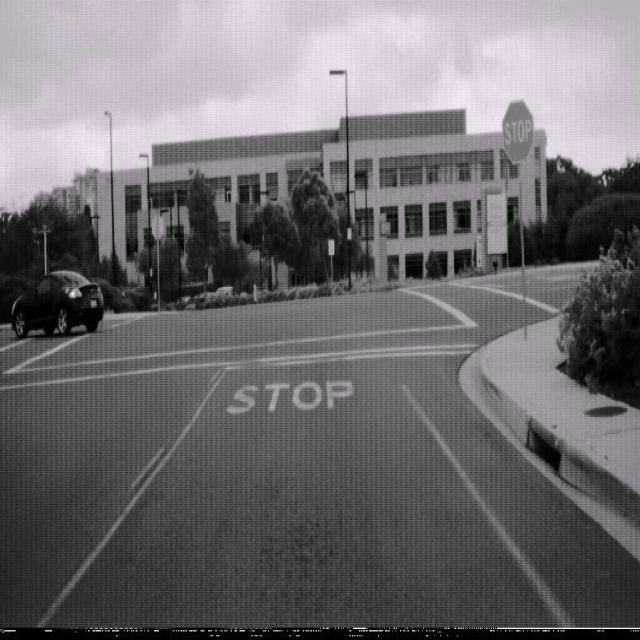stop: (502, 98, 534, 164)
